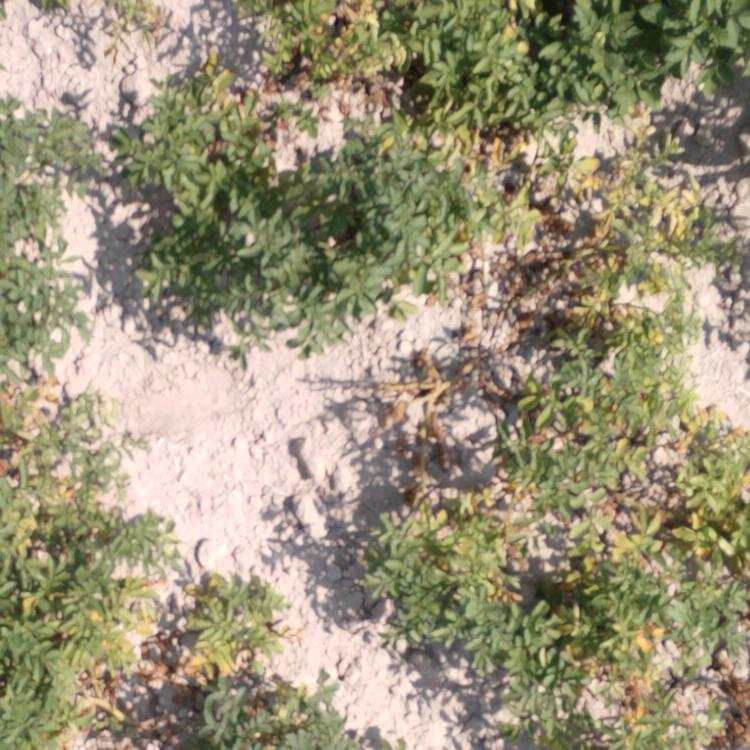healthy: (160, 163, 388, 322), (428, 1, 739, 90), (1, 116, 86, 331)
stressed: (491, 92, 704, 292), (528, 294, 685, 516), (1, 373, 160, 569), (535, 530, 750, 661), (355, 492, 524, 657), (389, 89, 497, 288), (493, 664, 750, 746), (1, 590, 135, 744), (141, 677, 399, 744), (101, 70, 276, 154), (249, 1, 428, 80), (161, 582, 282, 673), (678, 390, 750, 512), (372, 353, 481, 414), (35, 1, 174, 28)
